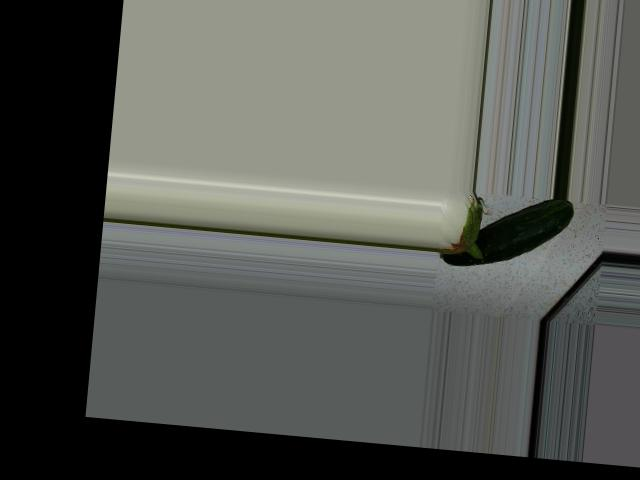cucumber: (439, 188, 575, 275)
